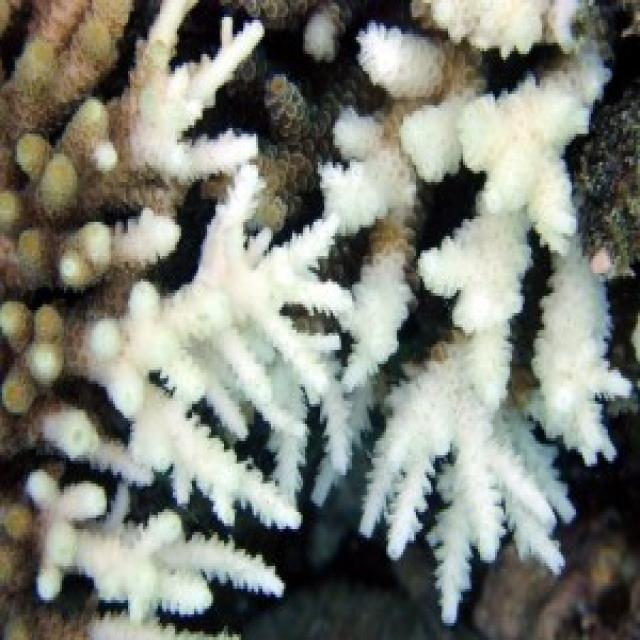Bleached: (1, 1, 178, 413), (93, 166, 351, 428), (421, 55, 609, 388), (362, 348, 575, 624), (321, 24, 475, 388), (27, 470, 283, 638), (125, 1, 263, 183), (135, 399, 302, 544), (532, 243, 632, 465), (413, 1, 579, 58), (300, 1, 342, 64), (74, 442, 118, 470)
